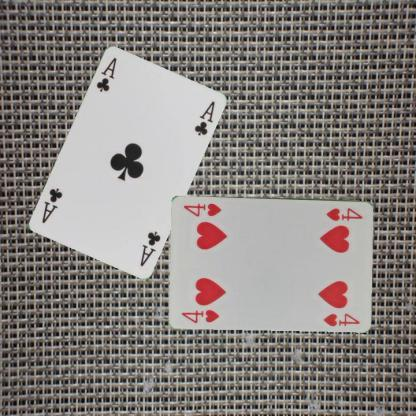4h: (179, 306, 221, 324), (324, 205, 364, 222)
Ac: (137, 228, 162, 268), (93, 54, 118, 93)
